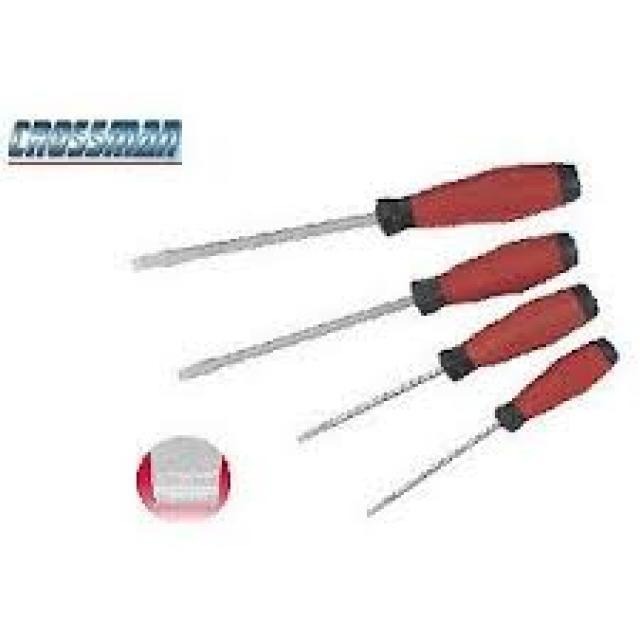screwdriver: (169, 227, 590, 387), (283, 284, 613, 450), (115, 159, 582, 276), (352, 336, 620, 520)
